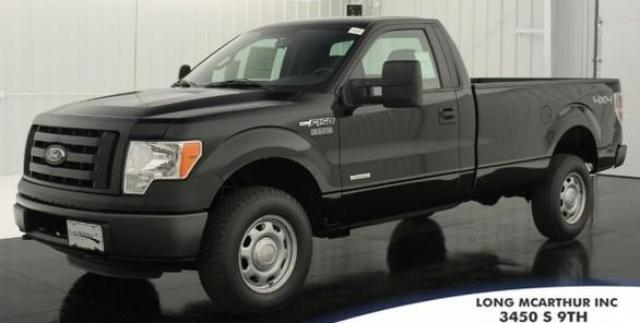pickup-truck: (14, 15, 627, 312)
